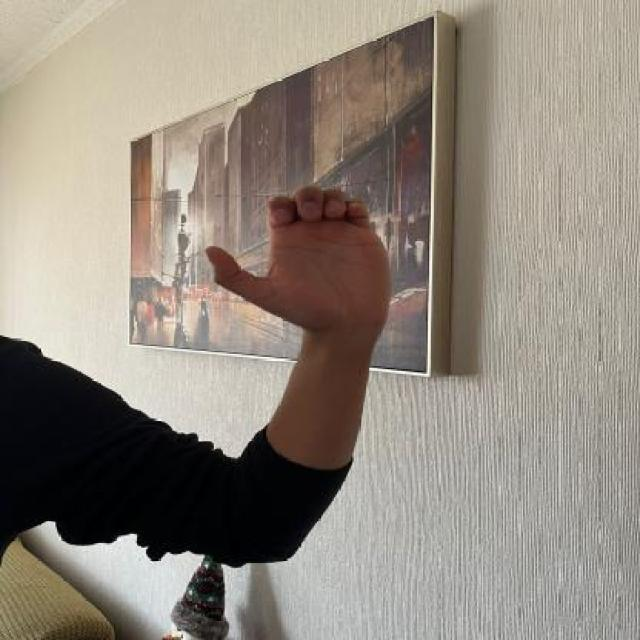E: (202, 181, 410, 336)
